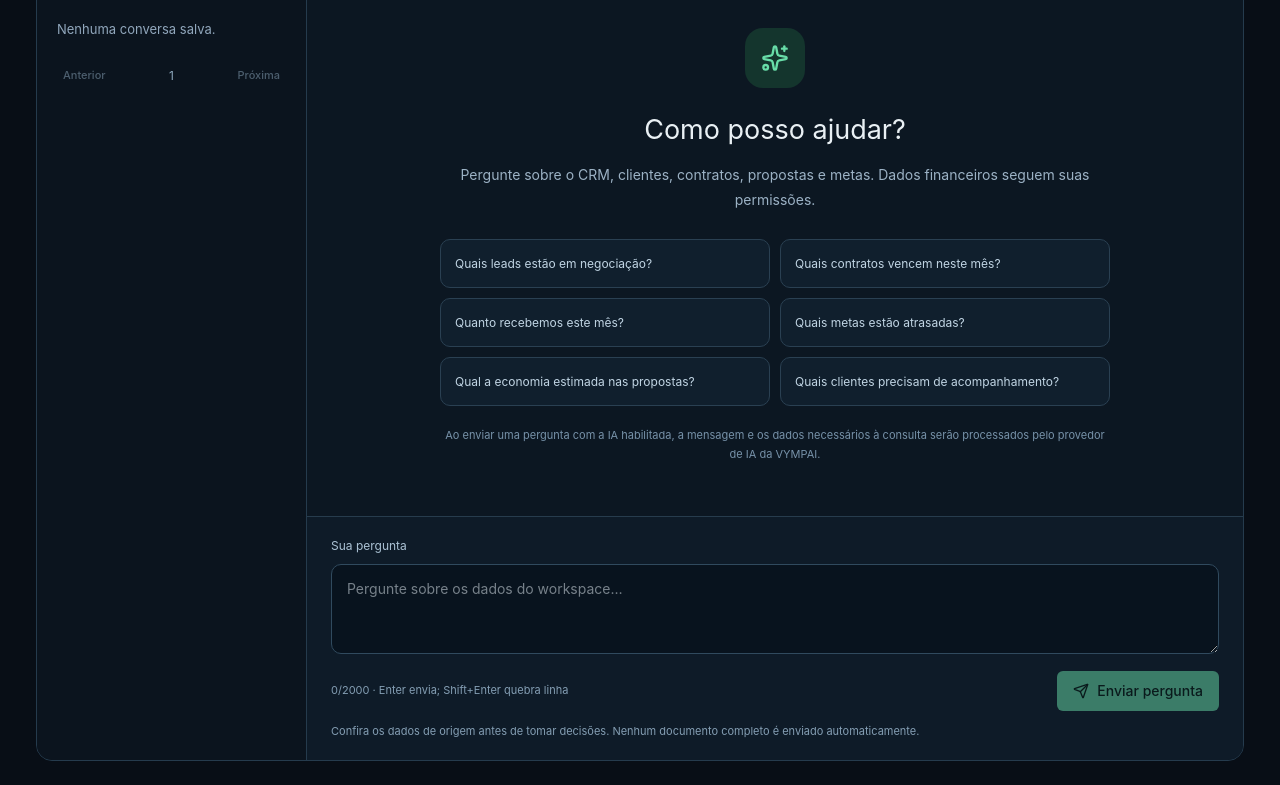
Scenario: VYMPAI › interrompe espera sem manter indicador preso
This screenshot has width=1280, height=785.
(page scrolled)
Step 1. Type "Pergunta isolada" into the text box → (775, 608), box [331,564,1219,654]
Then press Enter
(page scrolled)
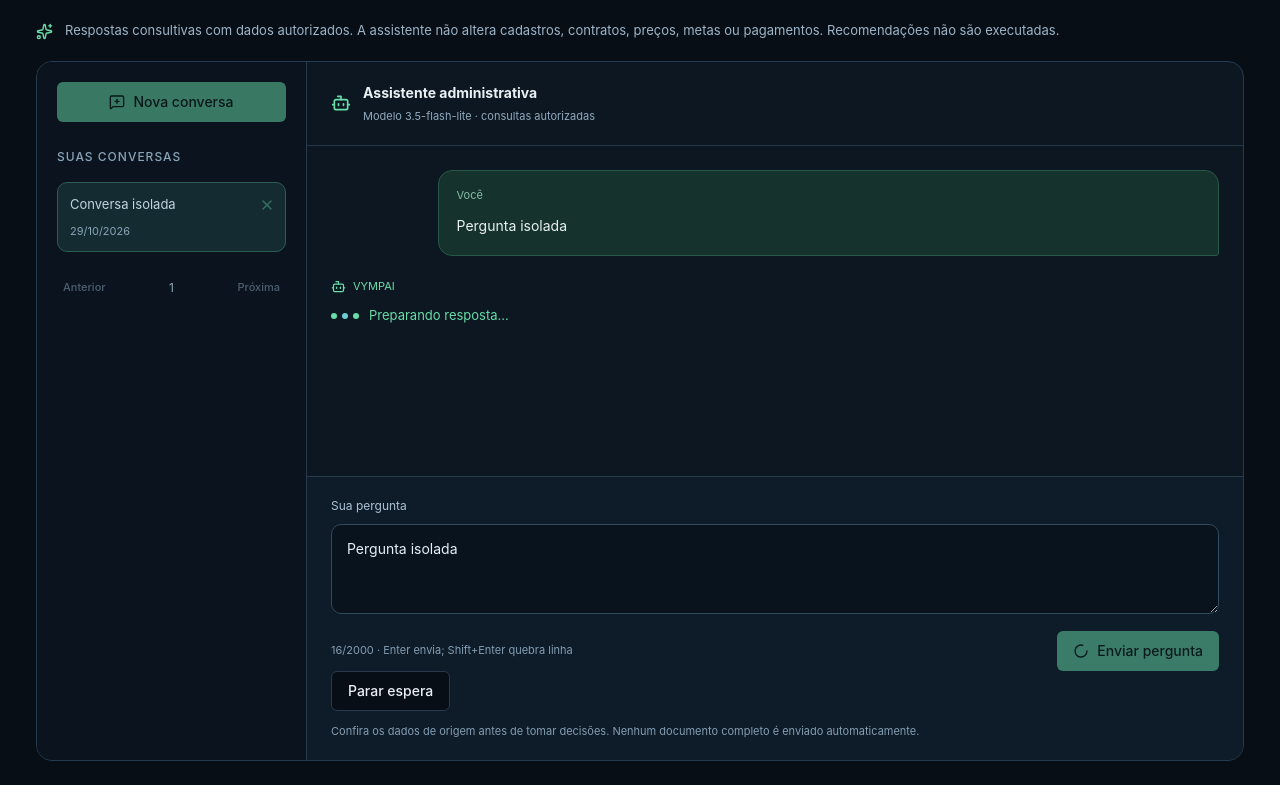
Step 2. Click the button "Parar espera" → (391, 691), box [331,671,450,711]
(page scrolled)
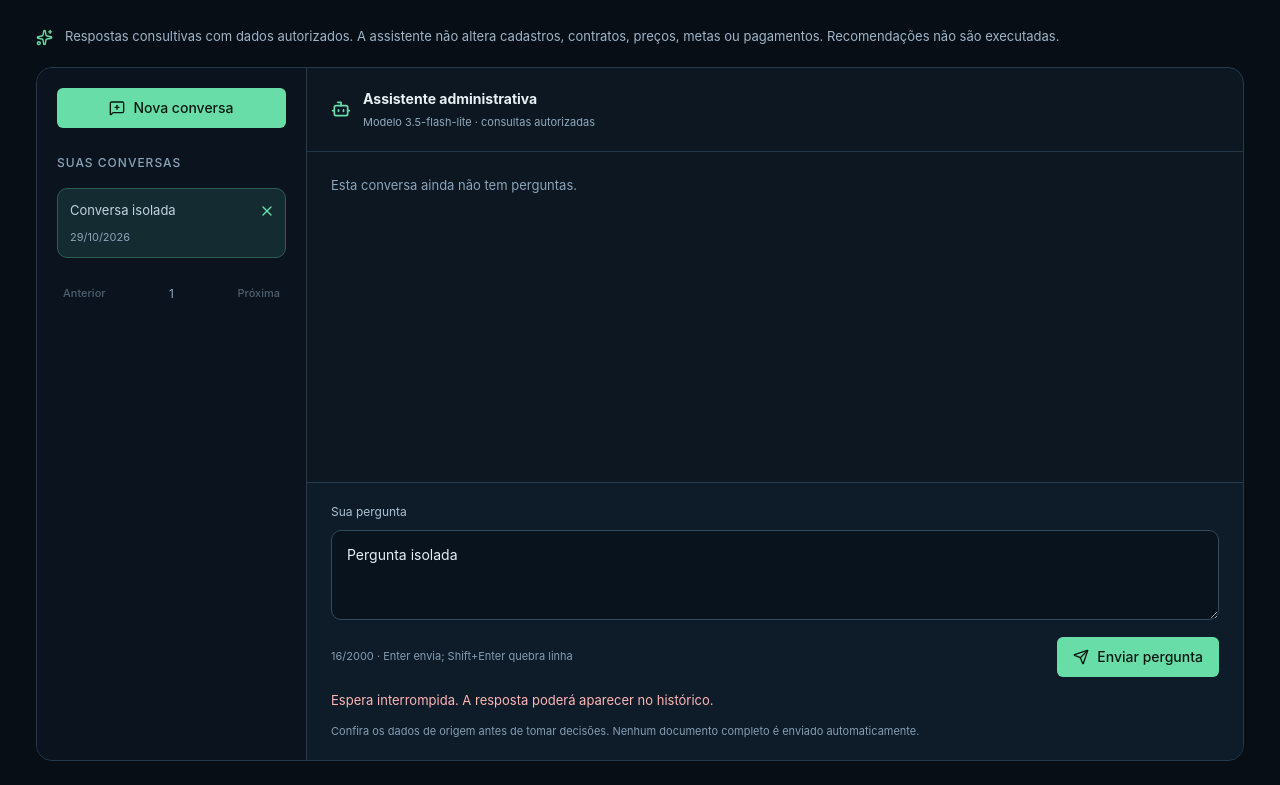
Now the message shows "Espera interrompida", box [331,692,714,708]
Now the text "Preparando resposta…" is gone
